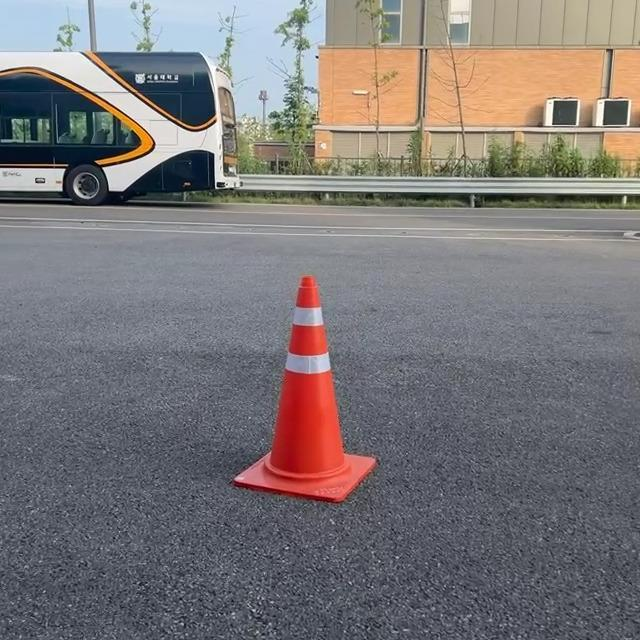fallen_object: (209, 262, 451, 545)
